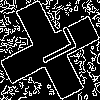L: (25, 25, 79, 71)
